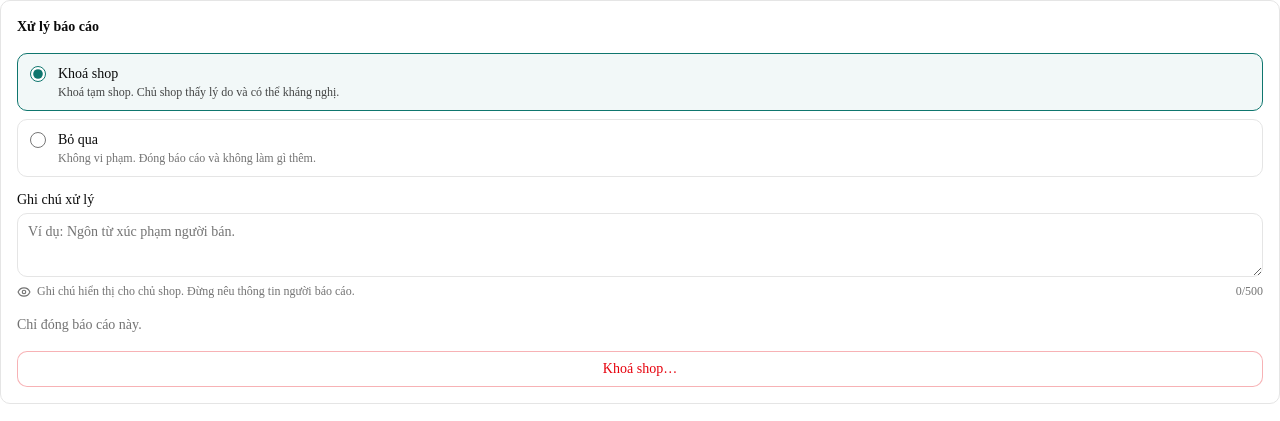
AdminReportActionPanel — các hành động theo loại › nút gửi đổi theo hành động đang chọn (có dấu … vì còn hộp thoại xác nhận)
expect the button "Khoá shop…" is shown: met, box [17,351,1263,387]
Click the radio button labelled "Bỏ qua Không vi phạm. Đóng báo cáo và không làm gì thêm.": point(38, 140) [30,132,46,148]
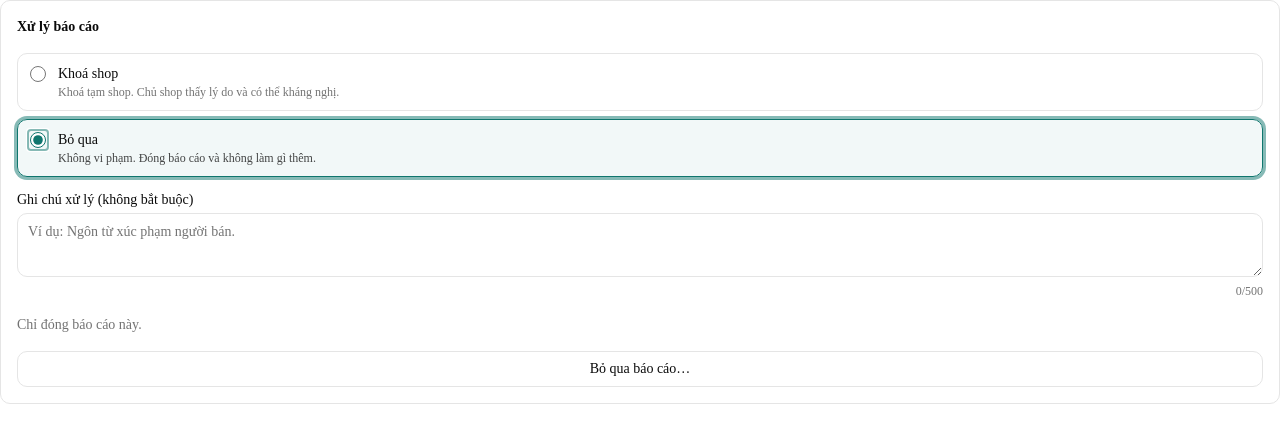
expect the button "Bỏ qua báo cáo…" is shown: met, box [17,351,1263,387]
expect the button "Khoá shop…" is gone: met
